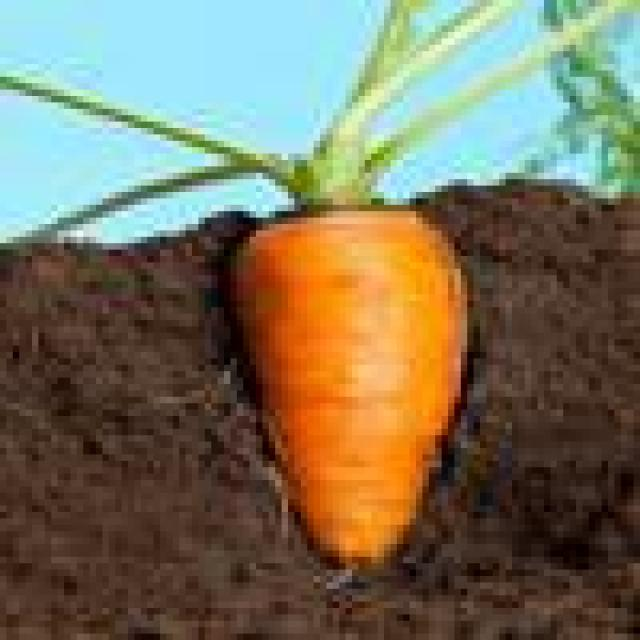Fresh_Carrot: (229, 206, 468, 554)
